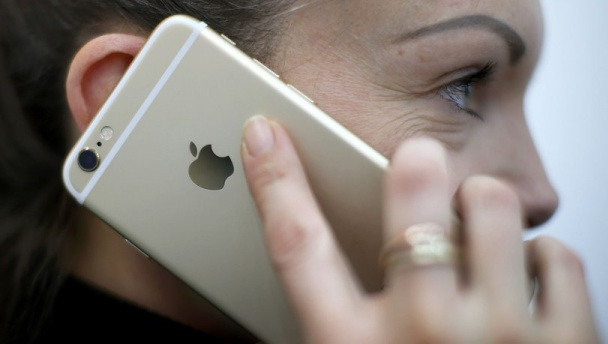apple: (185, 127, 238, 200)
